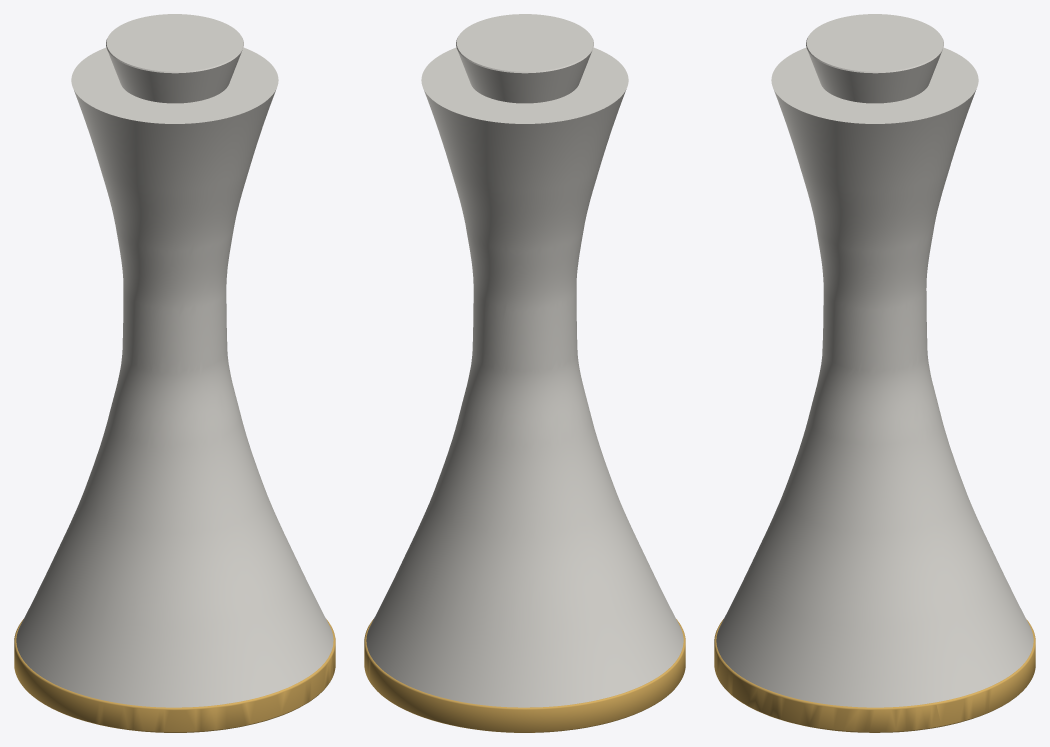
The model's file is queen-white-hd.glb.
The picture shows the model from 3 angles, left to right: view 1: azimuth 30°, elevation 25°; view 2: azimuth 150°, elevation 25°; view 3: azimuth 270°, elevation 25°; orthographic projection.
Parts seen in each view (by area): view 1: 05_dama_telo_0, 05_dama_telo_1, 05_dama_podstavec; view 2: 05_dama_telo_0, 05_dama_telo_1, 05_dama_podstavec; view 3: 05_dama_telo_0, 05_dama_telo_1, 05_dama_podstavec.
Boxes of the visible parts, x1,y1,x2,y2 form: 05_dama_telo_0: (16, 47, 333, 707); 05_dama_telo_1: (106, 14, 243, 103); 05_dama_podstavec: (14, 619, 335, 732); 05_dama_telo_0: (366, 47, 683, 707); 05_dama_telo_1: (456, 14, 593, 103); 05_dama_podstavec: (364, 619, 685, 732); 05_dama_telo_0: (716, 47, 1033, 707); 05_dama_telo_1: (806, 14, 943, 103); 05_dama_podstavec: (714, 619, 1035, 732).
Bounding box in the file's own units: 0.7252 × 1.55 × 0.7254.
